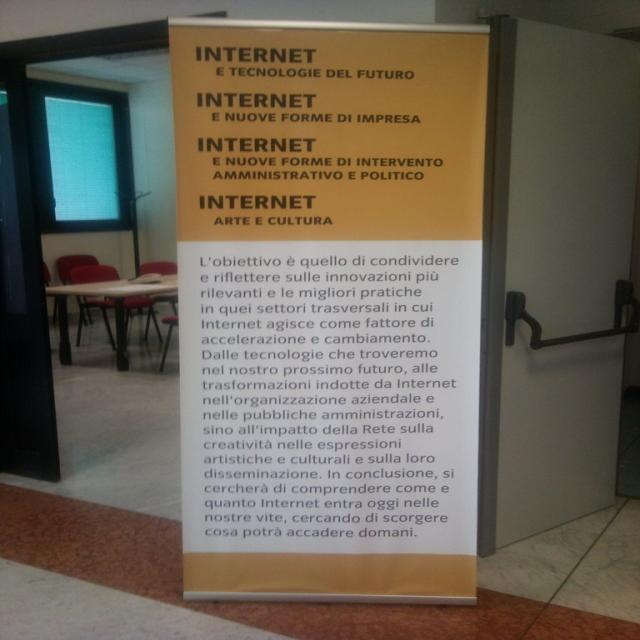desk: (41, 245, 166, 375)
